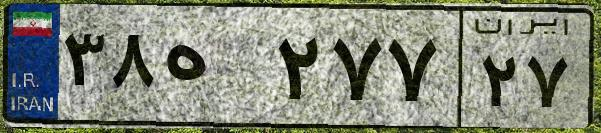2: (270, 28, 330, 110), (475, 38, 525, 113)
3: (57, 26, 110, 100)
7: (385, 28, 445, 110), (330, 28, 385, 110), (525, 38, 570, 115)
8: (110, 28, 158, 98)
ه: (158, 20, 270, 120)
